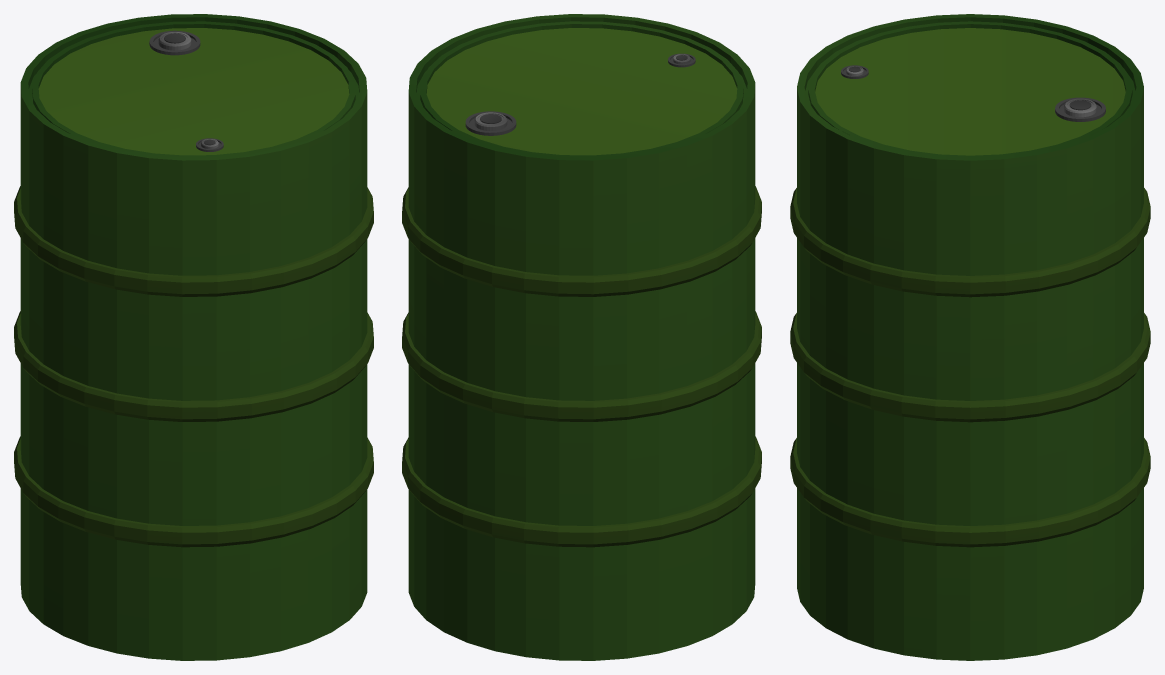
File: Industrial Barrel Green.fbx
The picture shows the model from 3 angles, left to right: view 1: azimuth 30°, elevation 25°; view 2: azimuth 150°, elevation 25°; view 3: azimuth 270°, elevation 25°; orthographic projection.
Parts seen in each view (by area): view 1: Industrial Barrel #4; view 2: Industrial Barrel #4; view 3: Industrial Barrel #4.
Boxes of the visible parts, box(x1,y1,x2,y2) form: Industrial Barrel #4: box(14, 14, 373, 660); Industrial Barrel #4: box(402, 14, 761, 660); Industrial Barrel #4: box(790, 14, 1150, 660).
Bounding box in the file's own units: 428 × 280 × 280.
Materials: 1 (1 with a texture image).
